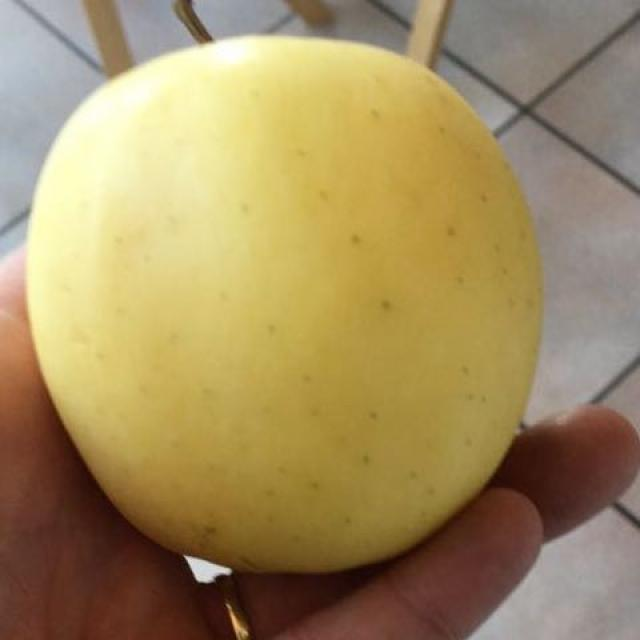apple: (38, 47, 537, 562)
